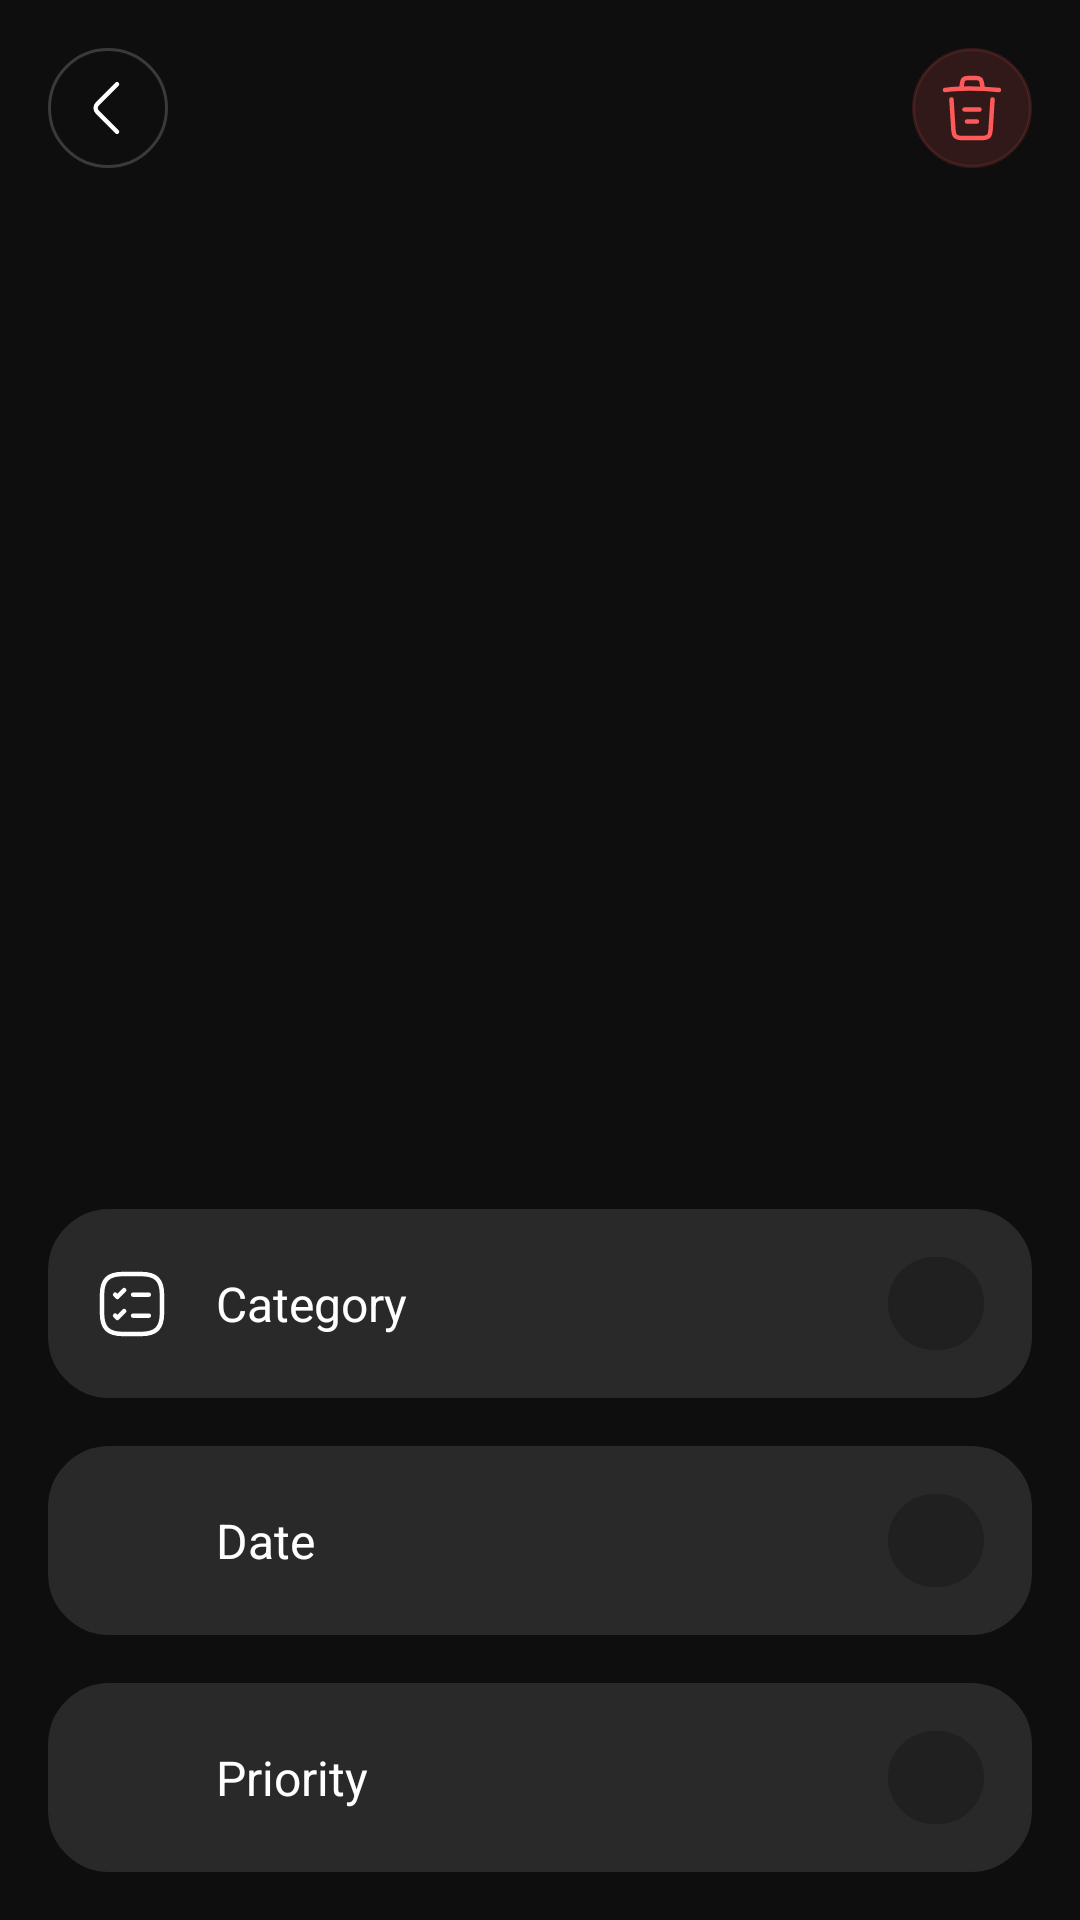

Icons on this 1080*1920 Android screen, each with the point to tap as (x=x, y=y):
arrow back: (x=108, y=108)
Delete: (x=972, y=108)
